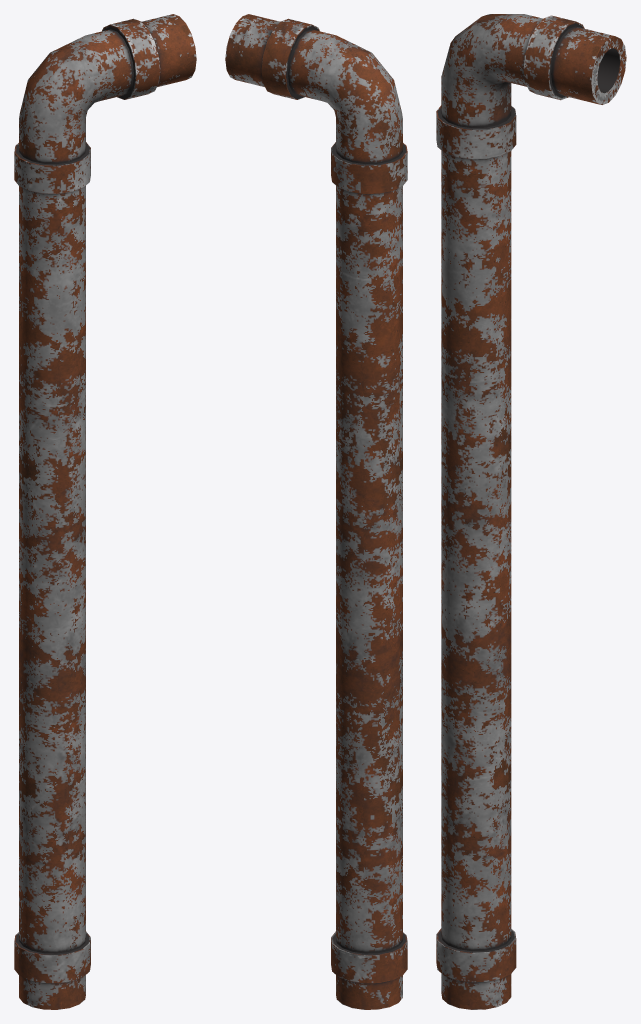
The model's file is Rusty_pipe.fbx.
3 renders of one model, left to right at view 1: azimuth 30°, elevation 25°; view 2: azimuth 150°, elevation 25°; view 3: azimuth 330°, elevation 25°, orthographic. The views are drawn at different scales.
Visible parts, largest first — view 1: Rusty_pipe; view 2: Rusty_pipe; view 3: Rusty_pipe.
Part boxes in pixels (x1,y1,x2,y2): Rusty_pipe: (14, 14, 196, 1009); Rusty_pipe: (225, 14, 407, 1009); Rusty_pipe: (436, 14, 626, 1009).
Bounding box in the file's own units: 9.55 × 54.14 × 3.98.
